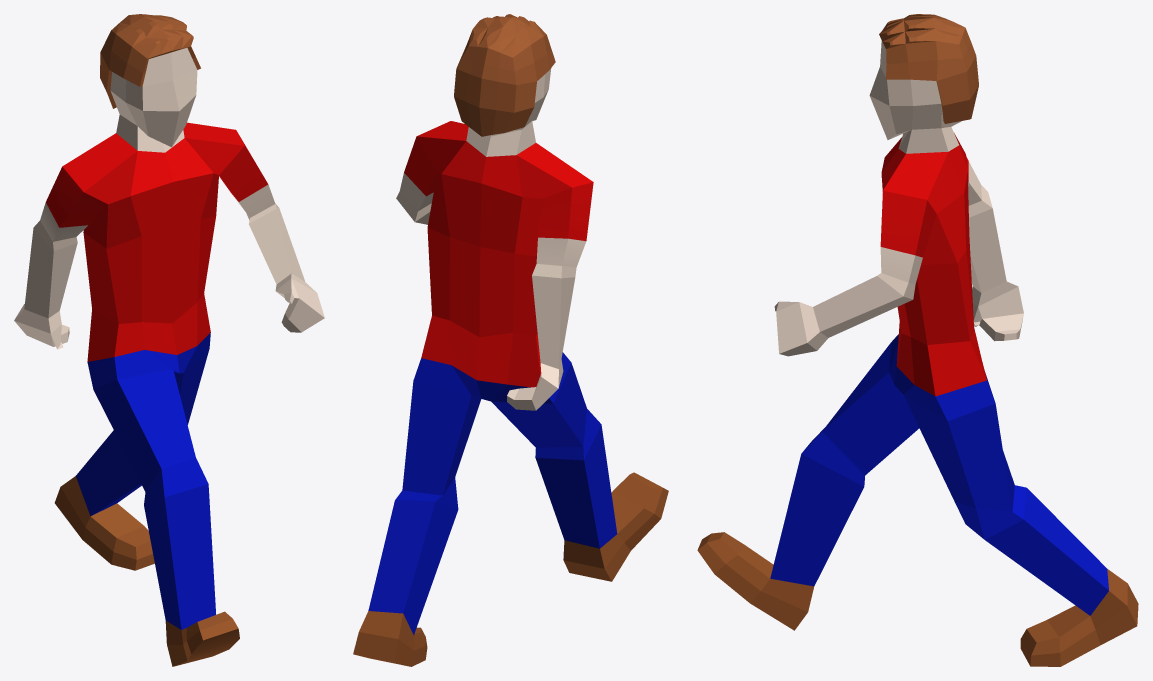
The model's file is Human_walking_24.fbx.
3 views of the same model, side by side, from view 1: azimuth 30°, elevation 25°; view 2: azimuth 150°, elevation 25°; view 3: azimuth 270°, elevation 25° (orthographic). The views are drawn at different scales.
Visible parts, largest first — view 1: Person; view 2: Person; view 3: Person.
Boxes of the visible parts, <box> form: Person: <box>14,14,324,666</box>; Person: <box>353,14,668,666</box>; Person: <box>697,14,1138,666</box>.
Size of the model in its own units: 0.1142 by 0.3051 by 0.1975.
